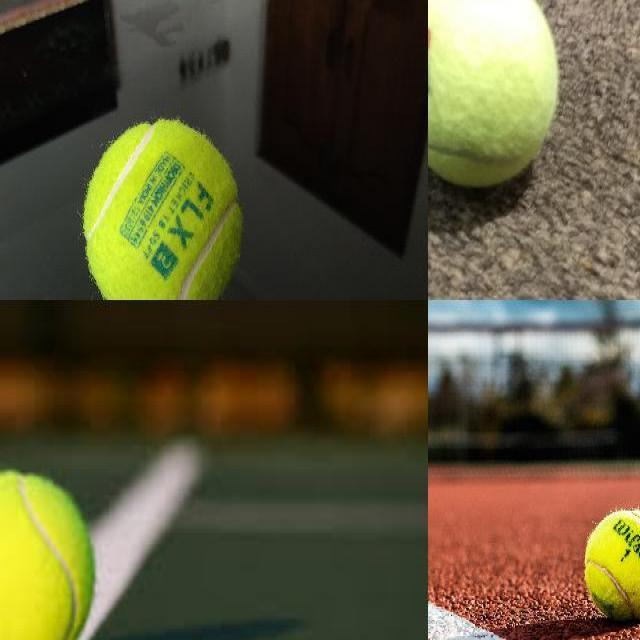tennis-ball: (81, 117, 244, 299), (428, 0, 560, 189), (0, 464, 97, 638), (583, 509, 639, 623)
